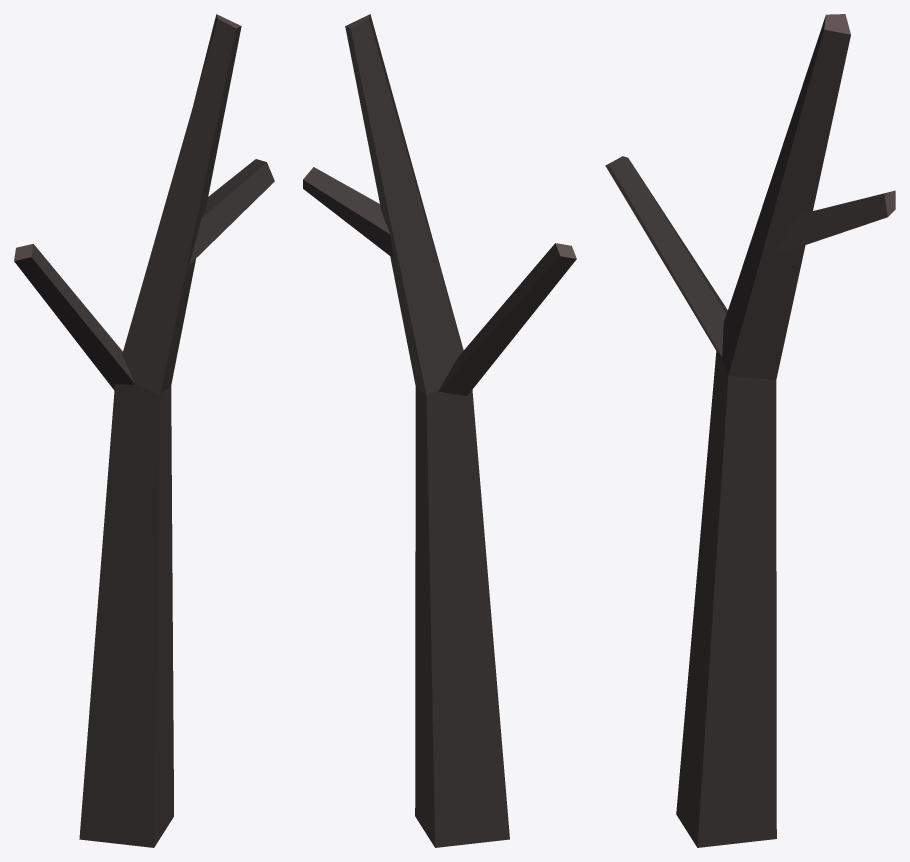
File: TB_D_Env_DeadTreeC_C.FBX
3 renders of one model, left to right at view 1: azimuth 30°, elevation 25°; view 2: azimuth 150°, elevation 25°; view 3: azimuth 330°, elevation 25°, orthographic. The views are drawn at different scales.
Visible parts, largest first — view 1: TB_D_Env_DeadTreeC_C; view 2: TB_D_Env_DeadTreeC_C; view 3: TB_D_Env_DeadTreeC_C.
Part boxes in pixels (x1,y1,x2,y2): TB_D_Env_DeadTreeC_C: (14, 14, 274, 847); TB_D_Env_DeadTreeC_C: (303, 14, 576, 847); TB_D_Env_DeadTreeC_C: (605, 14, 895, 847).
Bounding box in the file's own units: 2.06 × 5.86 × 0.7393.
